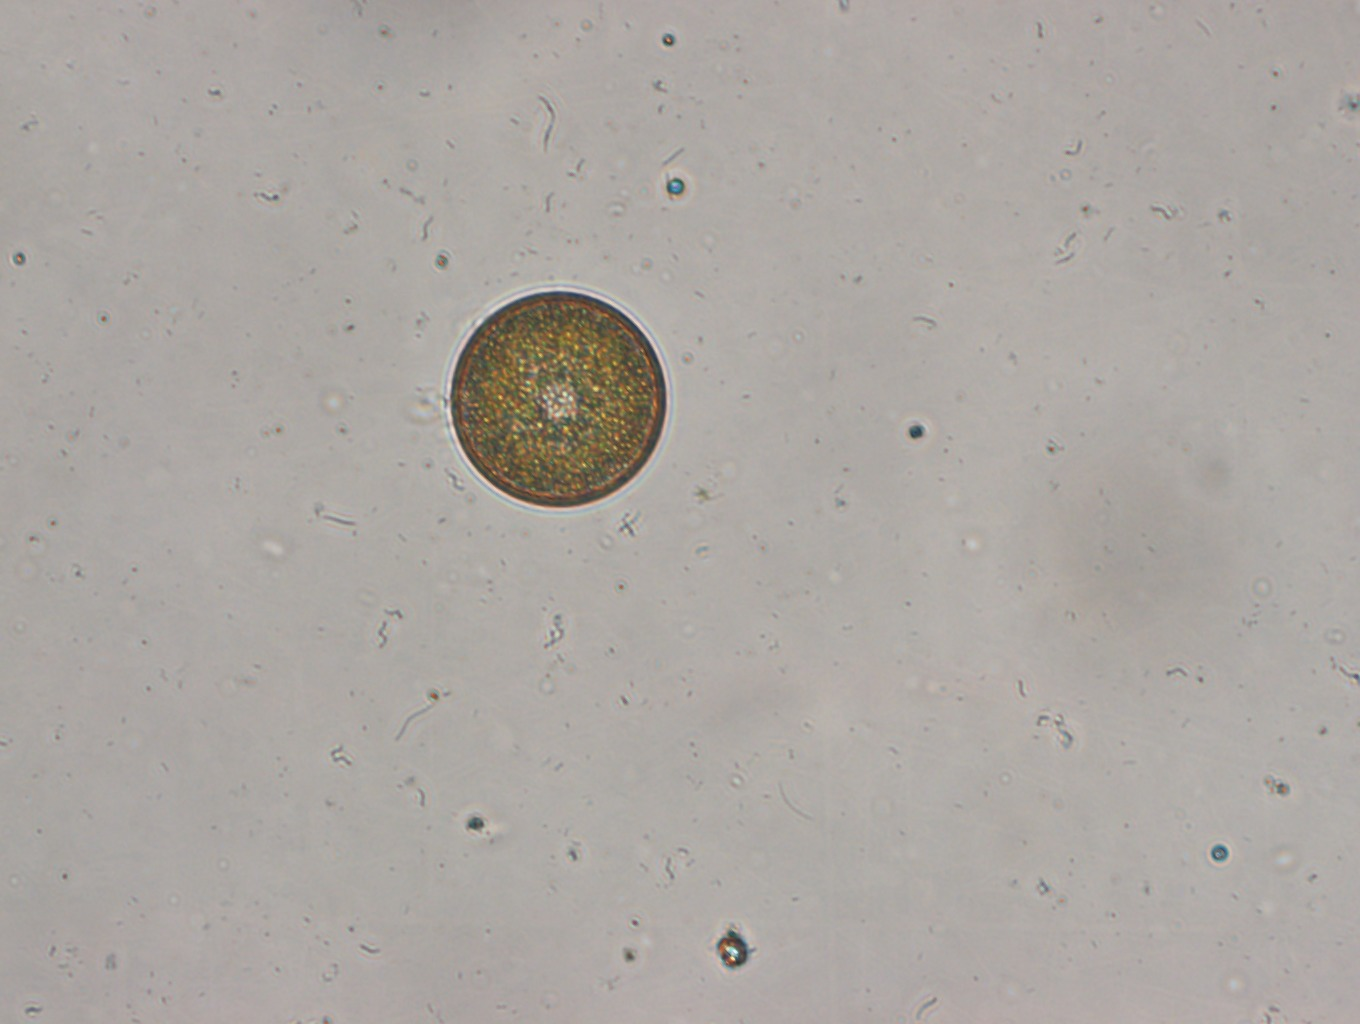coscinodiscus: (436, 281, 677, 517)
